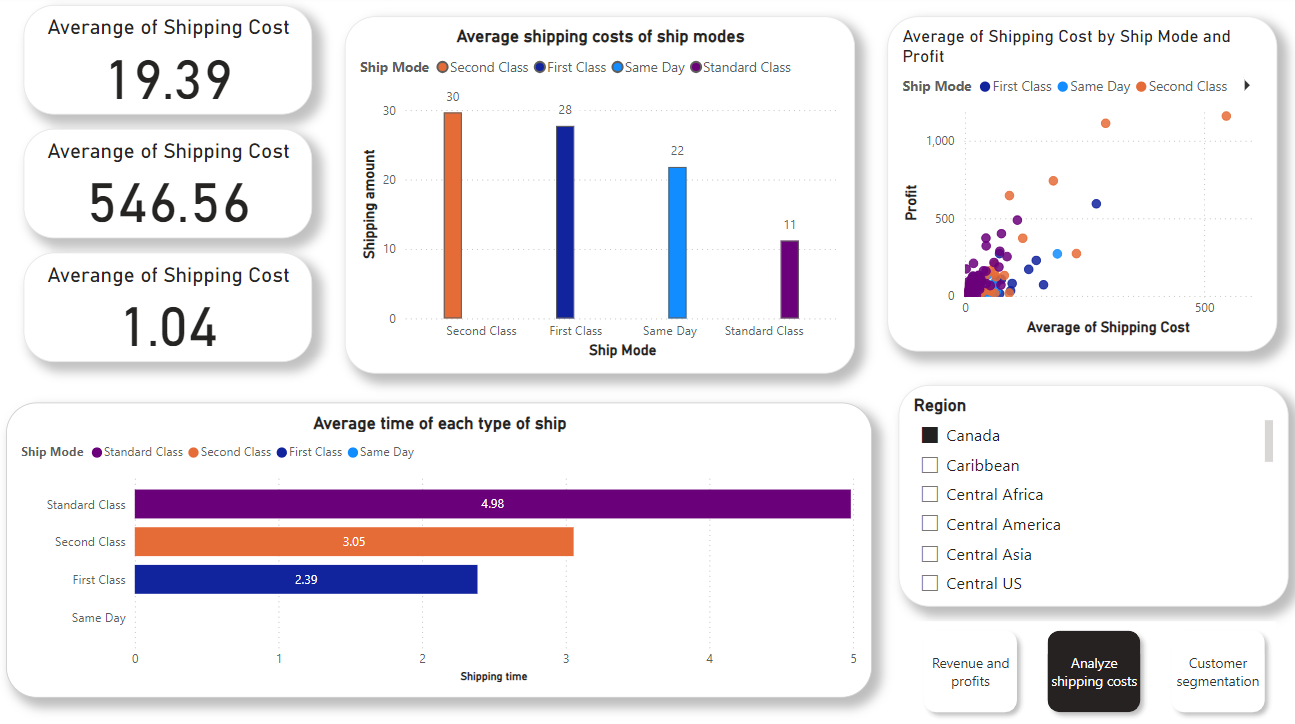

What the dashboard file says about the page in this screenshot:
{"tool":"powerbi","page":{"name":"Analyze shipping costs","canvas":[1280,720],"ordinal":1},"visuals":[{"type":"barChart","title":"Average time of each type of ship","fields":{"Category":["Orders.Ship Mode"],"Y":["Avg(Orders.Deliverytime)"],"Series":["Orders.Ship Mode"]},"box":[14.7,398.6,847.4,288.6],"z":0},{"type":"slicer","title":"Region","fields":{"Values":["Orders.Region"]},"box":[887.8,381.5,381.5,216.4],"z":1000},{"type":"lineClusteredColumnComboChart","title":"Average shipping costs of ship modes","fields":{"Y":["Avg(Orders.Shipping Cost)"],"Category":["Orders.Ship Mode"],"Series":["Orders.Ship Mode"]},"box":[346.1,20.8,498.9,349.7],"z":2000},{"type":"scatterChart","fields":{"X":["Avg(Orders.Shipping Cost)"],"Y":["Orders.Profit"],"Series":["Orders.Ship Mode"]},"box":[876.8,20.8,381.5,327.7],"z":3000},{"type":"card","title":"Averange of Shipping Cost","fields":{"Values":["Avg(Orders.Shipping Cost)"]},"box":[31.2,10,282.5,107.5],"z":4000},{"type":"pageNavigator","box":[903.8,612.5,353.8,98.8],"z":5000},{"type":"card","title":"Averange of Shipping Cost","fields":{"Values":["Max(Orders.Shipping Cost)"]},"box":[31.2,131.2,282.5,107.5],"z":6000},{"type":"card","title":"Averange of Shipping Cost","fields":{"Values":["Min(Orders.Shipping Cost)"]},"box":[31.2,252.5,282.5,107.5],"z":7000}]}

Visuals, with their boxes in screenshot pixels (x1, y1, x2, y2), scaled from the page's 1280x720 canvas onto the 1295x724 screenshot:
"Average time of each type of ship" barChart: (left=15, top=401, right=872, bottom=691)
"Region" slicer: (left=898, top=384, right=1284, bottom=601)
"Average shipping costs of ship modes" lineClusteredColumnComboChart: (left=350, top=21, right=855, bottom=373)
scatterChart - Avg(Orders.Shipping Cost) x Orders.Profit: (left=887, top=21, right=1273, bottom=350)
"Averange of Shipping Cost" card: (left=32, top=10, right=317, bottom=118)
pageNavigator: (left=914, top=616, right=1272, bottom=715)
"Averange of Shipping Cost" card: (left=32, top=132, right=317, bottom=240)
"Averange of Shipping Cost" card: (left=32, top=254, right=317, bottom=362)
